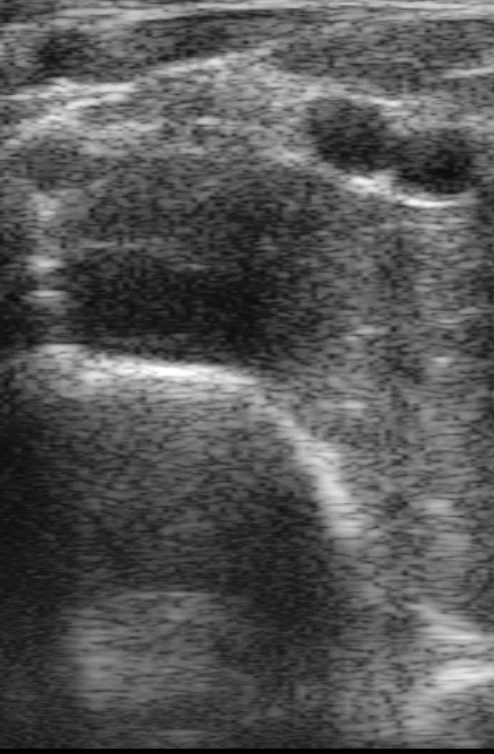veins_detect: (302, 92, 398, 183), (392, 128, 486, 211)
veins_seg: (312, 97, 481, 199)
